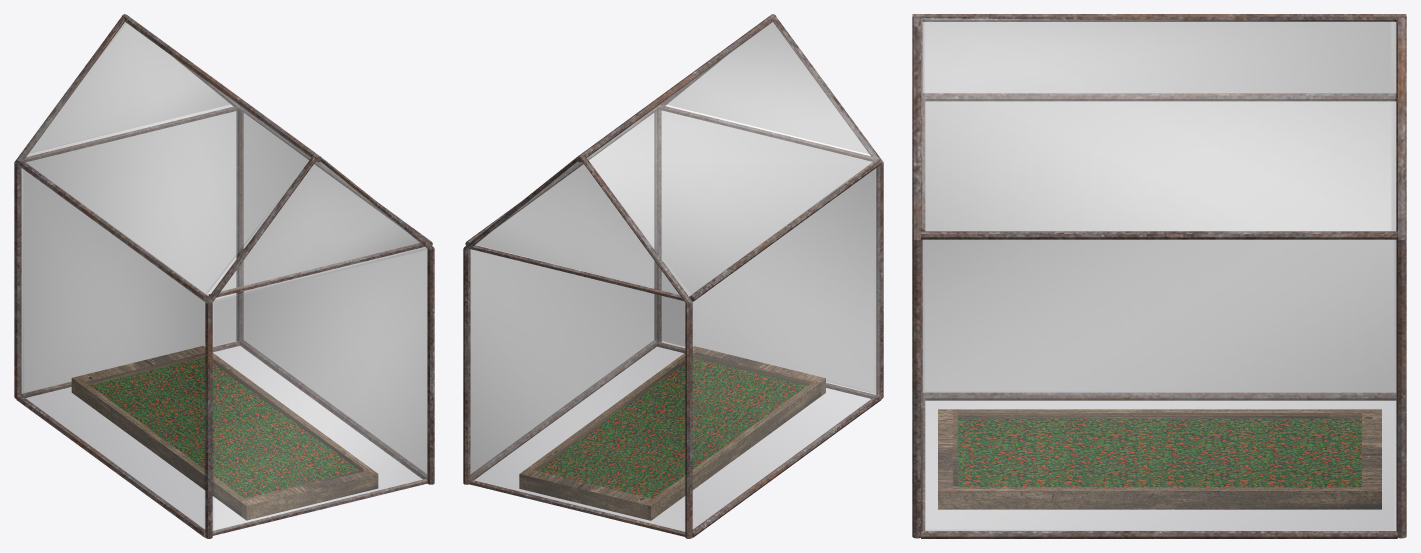
Rendered from GreenHouse.fbx.
The picture shows the model from 3 angles, left to right: view 1: azimuth 30°, elevation 25°; view 2: azimuth 150°, elevation 25°; view 3: azimuth 270°, elevation 25°; orthographic projection. The views are drawn at different scales.
Parts seen in each view (by area): view 1: polySurface103; view 2: polySurface103; view 3: polySurface103.
Part boxes in pixels (left/top/right/bottom): polySurface103: left=14, top=14, right=434, bottom=538; polySurface103: left=463, top=14, right=883, bottom=538; polySurface103: left=912, top=14, right=1406, bottom=538.
Bounding box in the file's own units: 16.3 × 24.3 × 24.
4 materials, 4 textured.
